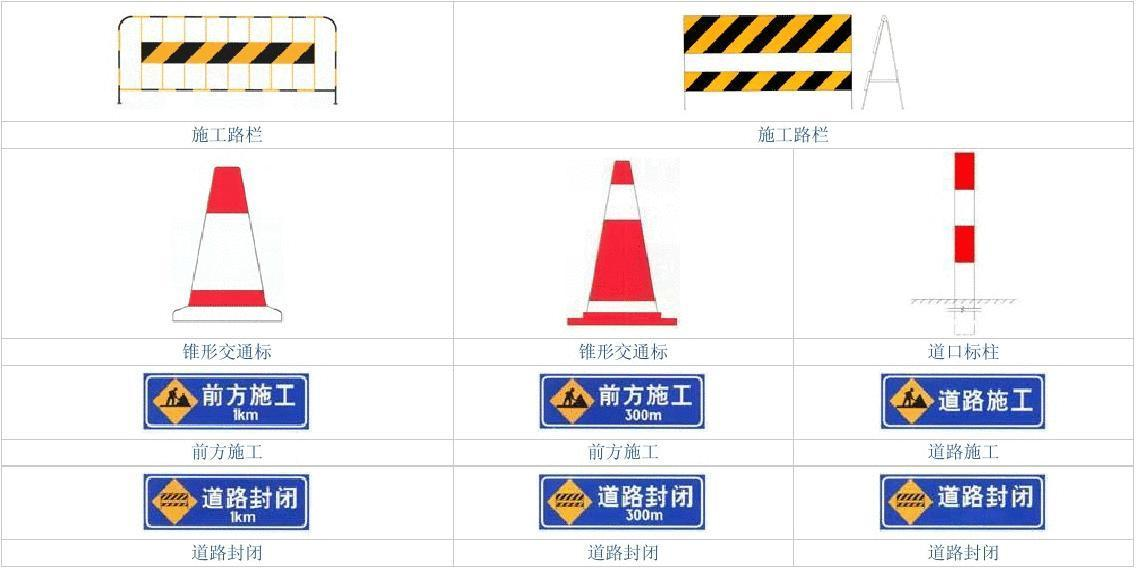sign: (874, 473, 1049, 532), (880, 371, 1047, 431), (534, 473, 707, 529), (538, 375, 706, 429), (141, 474, 311, 527), (143, 374, 309, 427)
